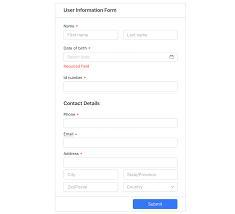button: (134, 200, 179, 210)
dropdown: (123, 183, 180, 194)
input: (63, 157, 180, 169), (64, 81, 180, 93), (64, 52, 179, 64), (64, 118, 180, 129), (64, 138, 179, 149), (63, 182, 120, 194), (64, 30, 121, 41), (123, 30, 180, 41), (124, 170, 180, 181), (64, 170, 120, 181)
label: (64, 8, 118, 14), (64, 102, 102, 107), (64, 46, 92, 51), (63, 76, 88, 81), (64, 112, 79, 118), (62, 25, 79, 29), (63, 133, 79, 137)
